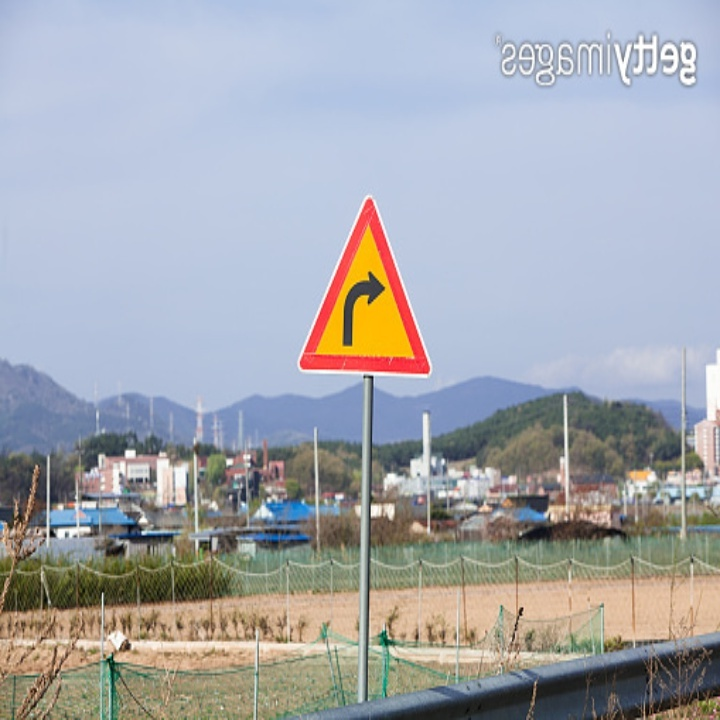right: (340, 264, 387, 350)
